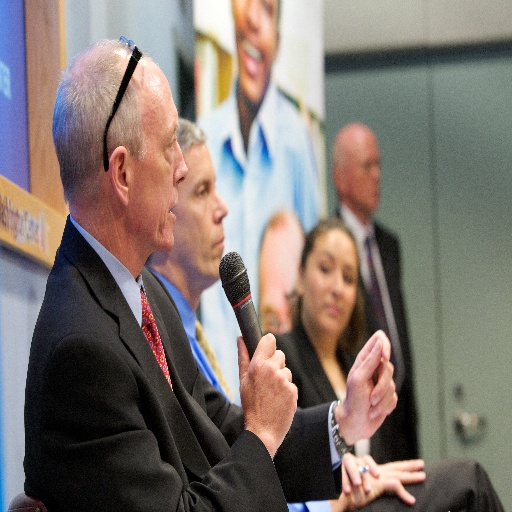hand: (238, 340, 292, 458), (346, 327, 397, 435), (346, 457, 426, 507), (340, 449, 381, 495)
